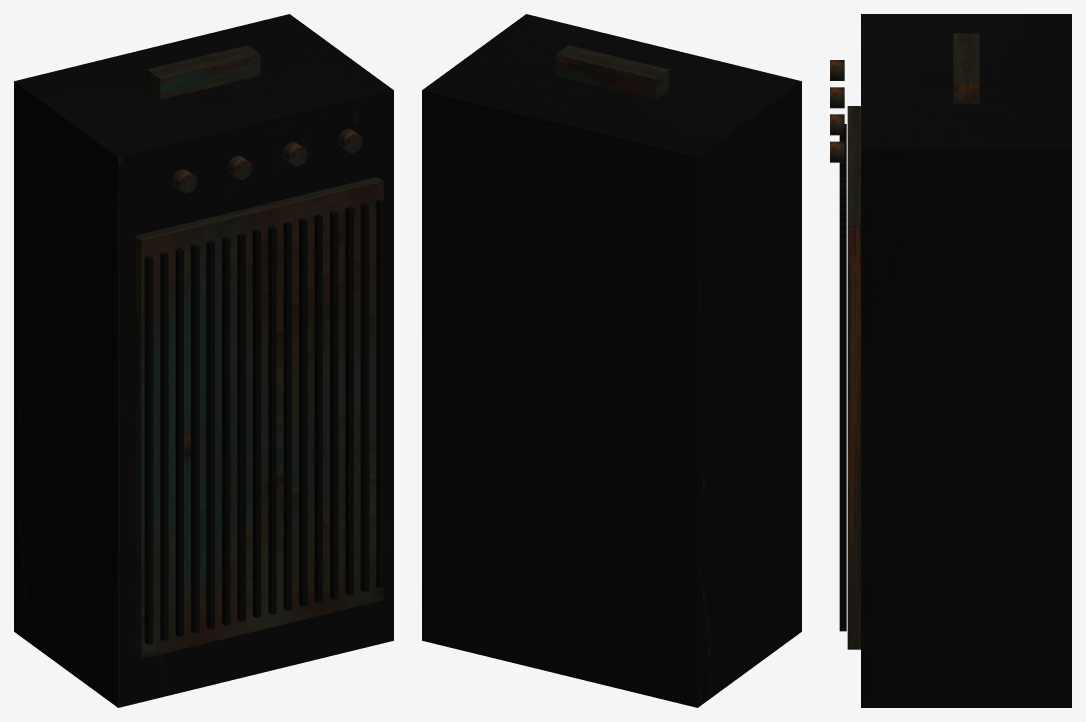
Rendered from loose_speaker.glb.
The picture shows the model from 3 angles, left to right: view 1: azimuth 30°, elevation 25°; view 2: azimuth 150°, elevation 25°; view 3: azimuth 270°, elevation 25°; orthographic projection.
Visible parts, largest first — view 1: SplitCabinet, SpeakerGrille, GrilleSlat, _MeshInstance3D_39836, _MeshInstance3D_39829, CarryHandle, _MeshInstance3D_39823, _MeshInstance3D_39825, _MeshInstance3D_39826, _MeshInstance3D_39830, _MeshInstance3D_39833, _MeshInstance3D_39824 (+7 smaller); view 2: SplitCabinet, CarryHandle; view 3: SplitCabinet, SpeakerGrille, _MeshInstance3D_39837, CarryHandle.
Part boxes in pixels (x1=…): SplitCabinet: x1=14, y1=14, x2=393, y2=707; SpeakerGrille: x1=134, y1=177, x2=383, y2=658; GrilleSlat: x1=144, y1=255, x2=153, y2=644; _MeshInstance3D_39836: x1=360, y1=203, x2=369, y2=591; _MeshInstance3D_39829: x1=252, y1=229, x2=261, y2=618; CarryHandle: x1=147, y1=45, x2=260, y2=99; _MeshInstance3D_39823: x1=160, y1=252, x2=168, y2=640; _MeshInstance3D_39825: x1=191, y1=244, x2=199, y2=633; _MeshInstance3D_39826: x1=206, y1=240, x2=214, y2=629; _MeshInstance3D_39830: x1=268, y1=225, x2=276, y2=614; _MeshInstance3D_39833: x1=314, y1=214, x2=322, y2=603; _MeshInstance3D_39824: x1=175, y1=248, x2=183, y2=636; SplitCabinet: x1=422, y1=14, x2=801, y2=707; CarryHandle: x1=555, y1=45, x2=668, y2=99; SplitCabinet: x1=861, y1=14, x2=1071, y2=707; SpeakerGrille: x1=847, y1=106, x2=860, y2=649; _MeshInstance3D_39837: x1=839, y1=238, x2=846, y2=631; CarryHandle: x1=953, y1=33, x2=979, y2=104.
Size of the model in its own units: 0.55 by 1.1 by 0.4125.
Materials: 18 (18 with a texture image).
